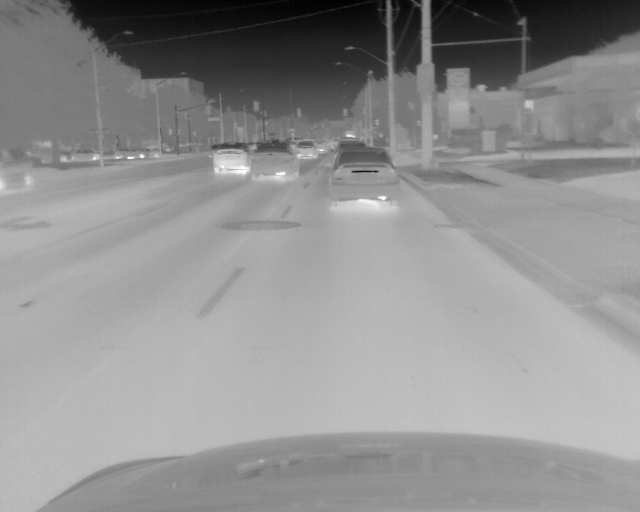car: (328, 147, 400, 205), (252, 142, 300, 181), (1, 150, 33, 196), (214, 143, 249, 175), (334, 137, 367, 152), (296, 139, 316, 159), (314, 138, 328, 153)
